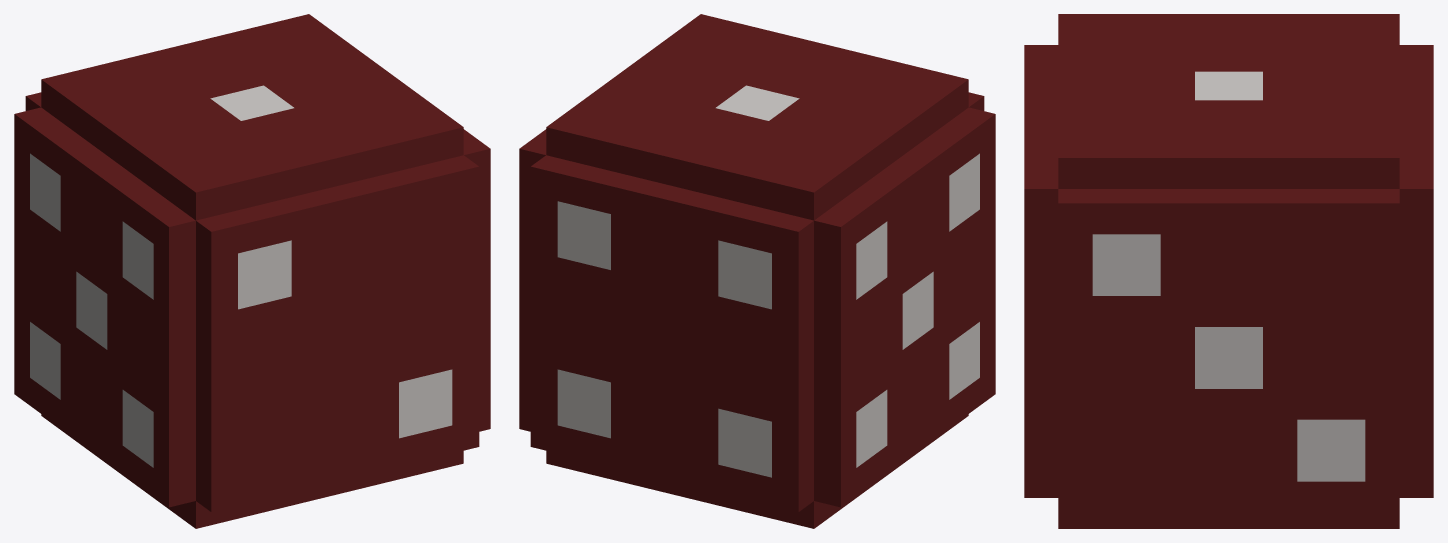
File: dice-v1-red-white.gltf
3 renders of one model, left to right at view 1: azimuth 30°, elevation 25°; view 2: azimuth 150°, elevation 25°; view 3: azimuth 270°, elevation 25°, orthographic. The views are drawn at different scales.
Visible parts, largest first — view 1: Untitled; view 2: Untitled; view 3: Untitled.
Part boxes in pixels (x1,y1,x2,y2): Untitled: (14,14,490,528); Untitled: (519,14,995,528); Untitled: (1024,14,1433,528).
Size of the model in its own units: 1.2 by 1.2 by 1.2.
1 material, 1 textured.
